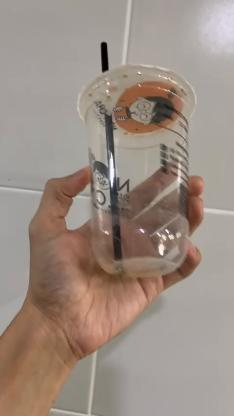Plastic Cup: (78, 64, 198, 280)
